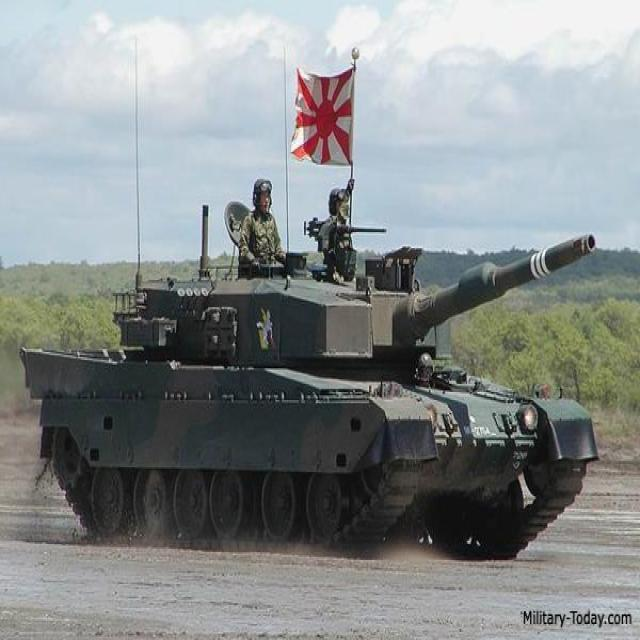Tanks: (23, 162, 602, 576)
